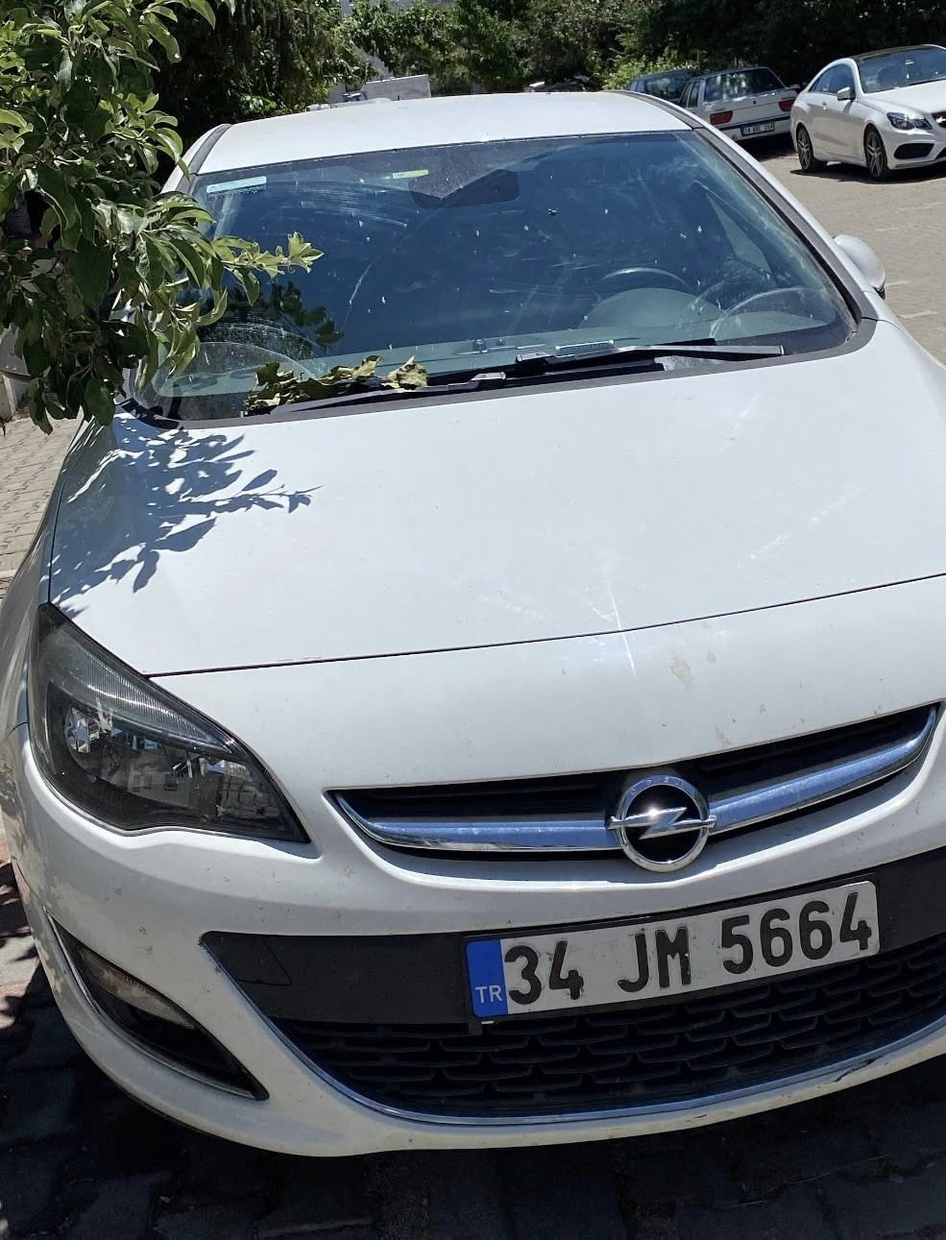plate: (461, 887, 891, 1011)
